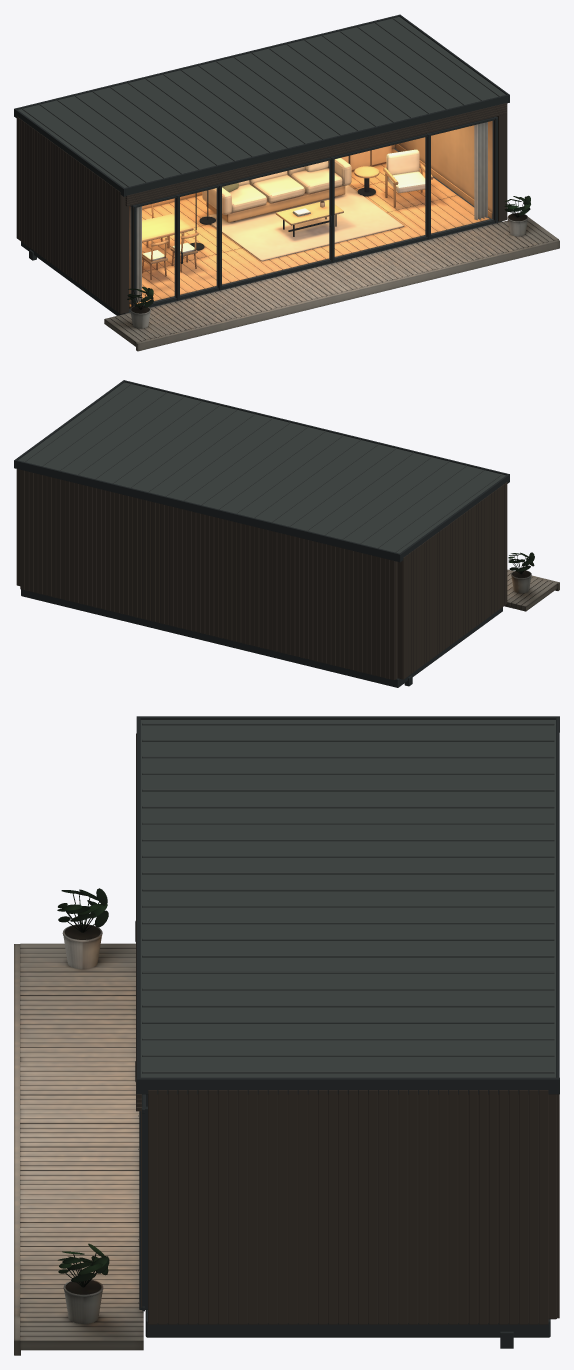
Rendered from modular-home.glb.
The picture shows the model from 3 angles, top to bottom: view 1: azimuth 30°, elevation 25°; view 2: azimuth 150°, elevation 25°; view 3: azimuth 270°, elevation 25°; orthographic projection. The views are drawn at different scales.
Parts seen in each view (by area): view 1: Flat roof cassette, Vertical cedar board assembly, Terrace timber board assembly, Staggered oak floor plank assembly, Woven wool rug, Roof standing seam assembly, Terrace fascia, Roof drip flashing, Interior side oak lining.001, Floor length pleated linen curtain.001, Sofa lower oak frame, Sliding glazing track.003 (+28 smaller); view 2: Rear cedar board assembly, Flat roof cassette, Vertical cedar board assembly, Roof standing seam assembly, Roof drip flashing.001, Steel floor cassette, Terrace timber board assembly, Roof drip flashing, Roof edge flashing, Insulated side wall, Insulated rear wall, Roof edge flashing.001; view 3: Flat roof cassette, Vertical cedar board assembly, Terrace timber board assembly, Roof standing seam assembly, Insulated side wall.001, Roof edge flashing.001, Steel floor cassette, Terrace fascia, Insulated rear wall, Roof drip flashing, Roof edge flashing, Aluminium mullion.005 (+3 smaller).
Part boxes in pixels (box(x1,y1,x2,y2)): Flat roof cassette: box(18, 17, 505, 187); Vertical cedar board assembly: box(16, 103, 507, 314); Terrace timber board assembly: box(104, 217, 558, 346); Staggered oak floor plank assembly: box(129, 148, 489, 308); Woven wool rug: box(202, 185, 404, 261); Roof standing seam assembly: box(22, 18, 499, 186); Terrace fascia: box(136, 239, 559, 351); Roof drip flashing: box(125, 94, 508, 196); Interior side oak lining.001: box(398, 121, 492, 212); Floor length pleated linen curtain.001: box(474, 122, 487, 220); Sofa lower oak frame: box(206, 185, 345, 222); Sliding glazing track.003: box(132, 117, 497, 207); Rear cedar board assembly: box(20, 469, 394, 680); Flat roof cassette: box(18, 382, 505, 553); Vertical cedar board assembly: box(16, 469, 507, 679); Roof standing seam assembly: box(24, 383, 502, 552); Roof drip flashing.001: box(15, 460, 399, 561); Steel floor cassette: box(21, 589, 502, 687); Terrace timber board assembly: box(504, 571, 557, 611); Roof drip flashing: box(124, 380, 507, 475); Roof edge flashing: box(398, 474, 509, 562); Insulated side wall: box(397, 561, 402, 679); Insulated rear wall: box(394, 561, 397, 679); Roof edge flashing.001: box(14, 380, 124, 468); Flat roof cassette: box(140, 720, 555, 1077); Vertical cedar board assembly: box(148, 1090, 548, 1324); Terrace timber board assembly: box(20, 943, 143, 1350); Roof standing seam assembly: box(142, 723, 554, 1073); Insulated side wall.001: box(148, 1094, 548, 1323); Roof edge flashing.001: box(136, 1077, 559, 1094); Steel floor cassette: box(145, 1310, 550, 1337); Terrace fascia: box(14, 944, 20, 1355); Insulated rear wall: box(548, 1094, 556, 1319); Roof drip flashing: box(136, 717, 140, 1077); Roof edge flashing: box(136, 716, 559, 732); Aluminium mullion.005: box(139, 1106, 147, 1309).
Bounding box in the file's own units: 11.26 × 3.6 × 6.54.
22 materials, 16 textured.
